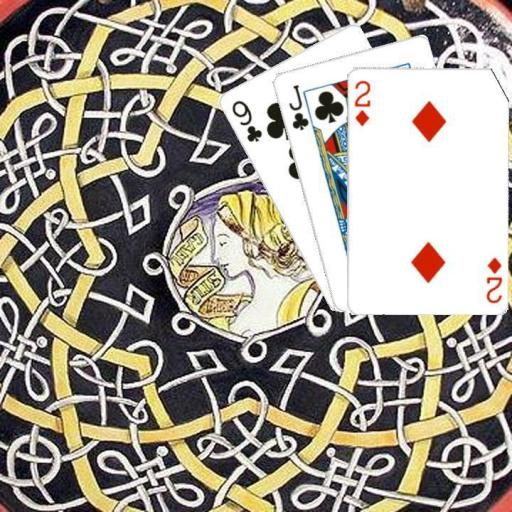card-corner: (227, 96, 264, 144), (285, 81, 310, 132), (351, 77, 371, 127), (483, 254, 503, 304)
